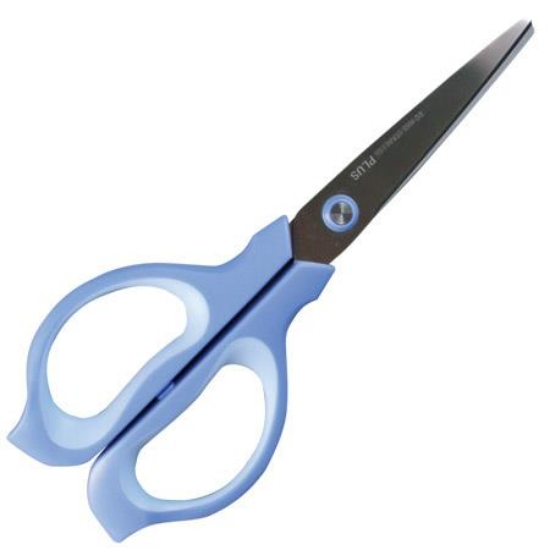scissors: (1, 15, 546, 548)
